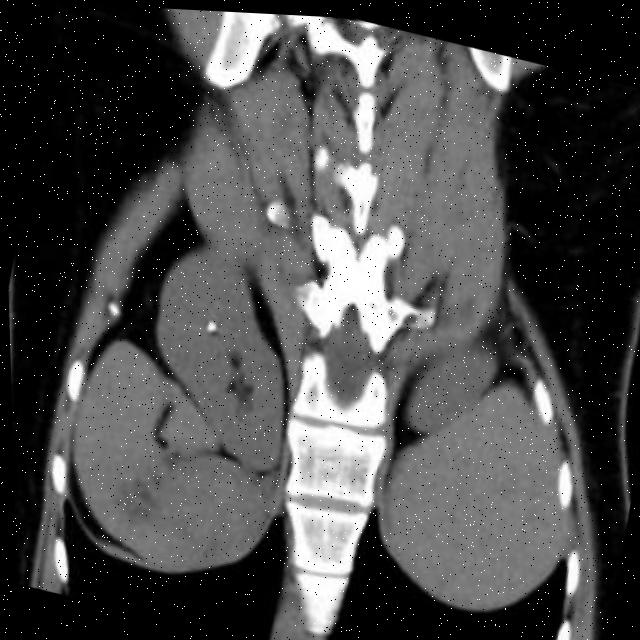Tas_Var: (199, 311, 221, 339)
